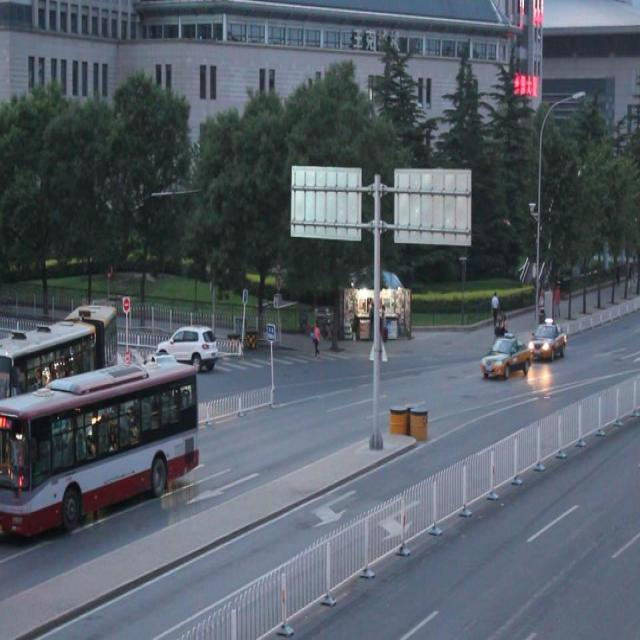car: (157, 326, 218, 370), (479, 332, 530, 378), (136, 346, 179, 389), (528, 316, 566, 362)
van: (1, 361, 197, 533), (1, 305, 119, 412)
